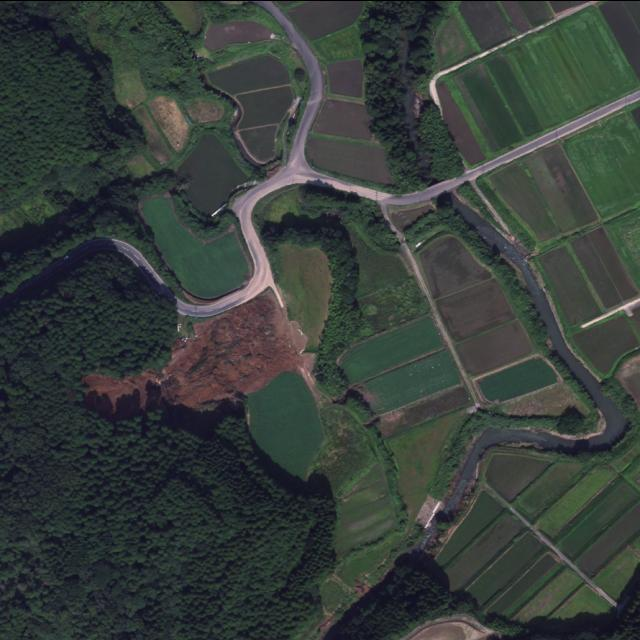landslide: (83, 294, 312, 419)
